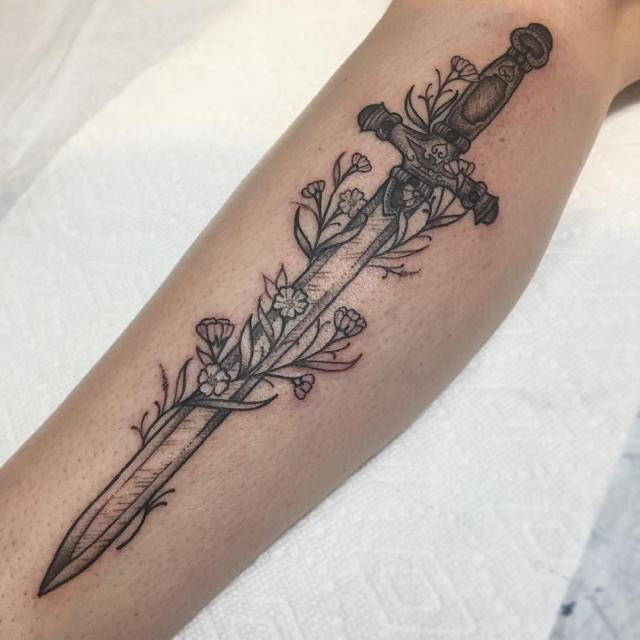Flower: (186, 300, 244, 362), (264, 280, 312, 322), (330, 304, 372, 348), (443, 50, 481, 86), (194, 364, 230, 398), (300, 175, 330, 212), (288, 366, 316, 400), (346, 148, 374, 182)
